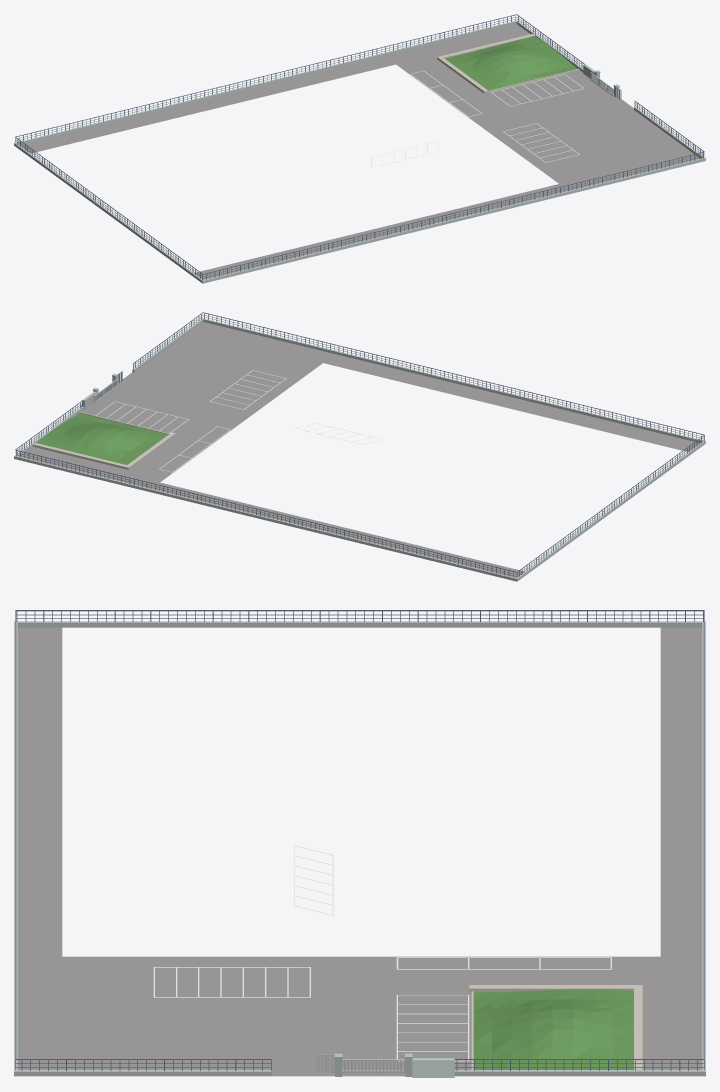
The model's file is headstock_warehouse_ground_20230621.glb.
The picture shows the model from 3 angles, top to bottom: view 1: azimuth 30°, elevation 25°; view 2: azimuth 150°, elevation 25°; view 3: azimuth 270°, elevation 25°; orthographic projection. The views are drawn at different scales.
Parts seen in each view (by area): view 1: Rectangle18636, Rectangle18226, Line255, Plane001, Line277; view 2: Rectangle18636, Rectangle18226, Line255, Plane001, Line277; view 3: Rectangle18636, Plane001, Line255, Rectangle18226, Line277, Rectangle18627, Rectangle18647, Rectangle18646.
Boxes of the visible parts, x1=… form: Rectangle18636: x1=19, y1=24, x2=699, y2=279; Rectangle18226: x1=15, y1=14, x2=704, y2=280; Line255: x1=14, y1=20, x2=705, y2=283; Plane001: x1=445, y1=36, x2=577, y2=90; Line277: x1=437, y1=33, x2=535, y2=93; Rectangle18636: x1=20, y1=322, x2=700, y2=577; Rectangle18226: x1=15, y1=312, x2=704, y2=577; Line255: x1=14, y1=318, x2=705, y2=581; Plane001: x1=36, y1=413, x2=168, y2=464; Line277: x1=33, y1=432, x2=175, y2=469; Rectangle18636: x1=17, y1=627, x2=702, y2=1076; Plane001: x1=473, y1=989, x2=633, y2=1069; Line255: x1=14, y1=621, x2=705, y2=1076; Rectangle18226: x1=15, y1=610, x2=704, y2=1070; Line277: x1=469, y1=985, x2=642, y2=1069; Rectangle18627: x1=412, y1=1058, x2=454, y2=1077; Rectangle18647: x1=396, y1=995, x2=469, y2=1061; Rectangle18646: x1=153, y1=967, x2=310, y2=997.
Bounding box in the file's own units: 12 × 0.2505 × 7.76.
